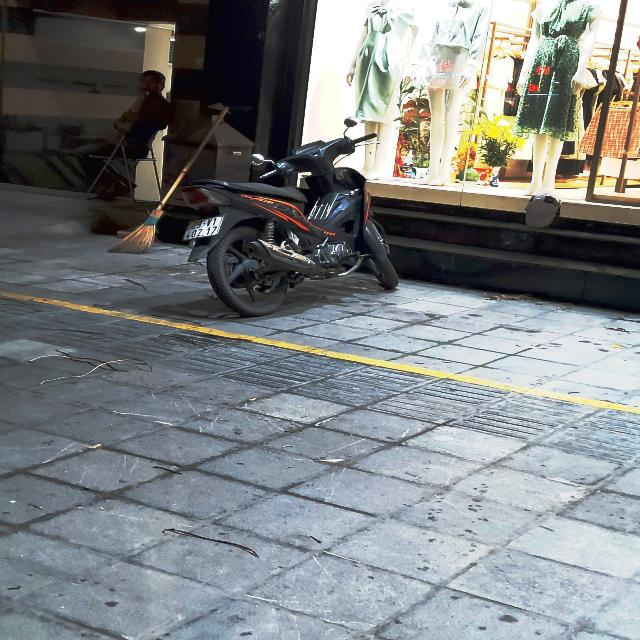license_plate: (183, 216, 225, 242)
